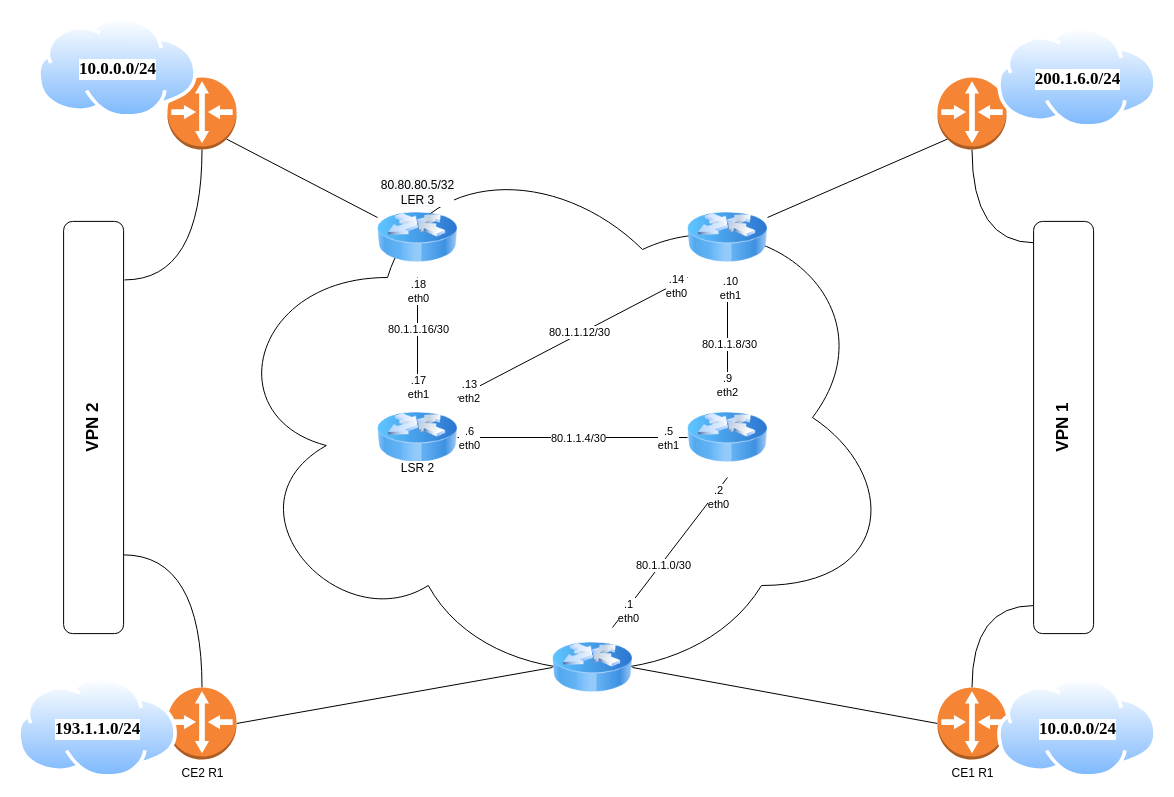
Some shapes in this 1174 by 797 pixel diagram are drawn without their labels. Each missing label, with the centre of its shape:
"80.80.80.4/32 LER 2" belongs at (727,237).
"CE1 R2" belongs at (971,113).
"CE2 R2" belongs at (201,113).
"LER 1 80.80.80.1/32" belongs at (592,667).
"LSR 1" belongs at (727,437).
